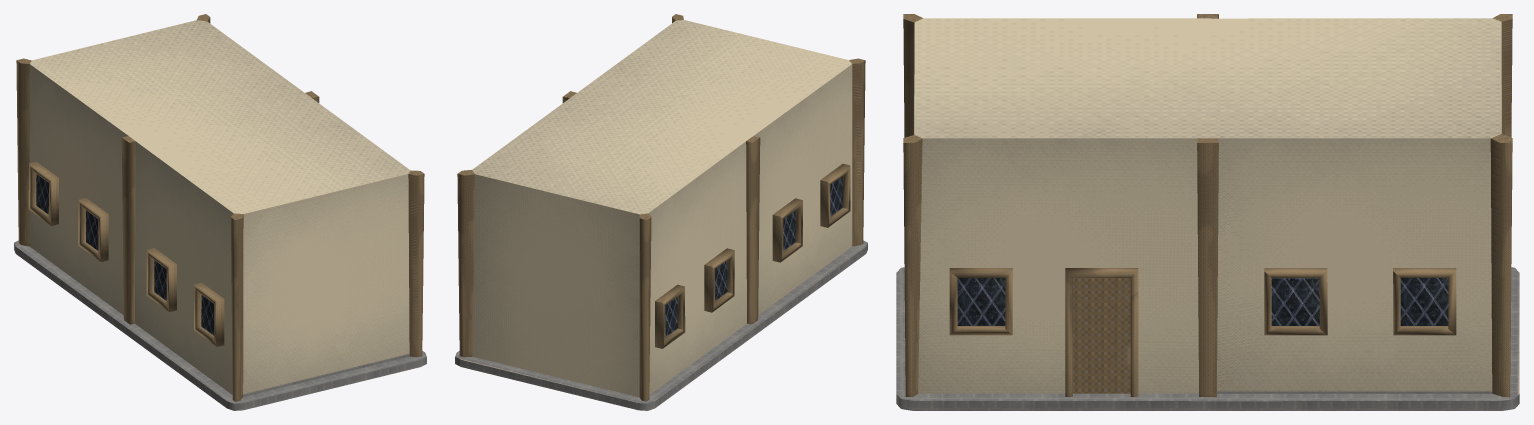
Rendered from house_rectangle_base.fbx.
3 renders of one model, left to right at view 1: azimuth 30°, elevation 25°; view 2: azimuth 150°, elevation 25°; view 3: azimuth 270°, elevation 25°, orthographic. The views are drawn at different scales.
Parts seen in each view (by area): view 1: rectangle_base; view 2: rectangle_base; view 3: rectangle_base.
Part boxes in pixels (box(x1,y1,x2,y2)): rectangle_base: box(14, 14, 426, 410); rectangle_base: box(455, 14, 867, 410); rectangle_base: box(896, 14, 1519, 410).
Bounding box in the file's own units: 16.06 × 14.64 × 31.22.
Materials: 2 (2 with a texture image).
